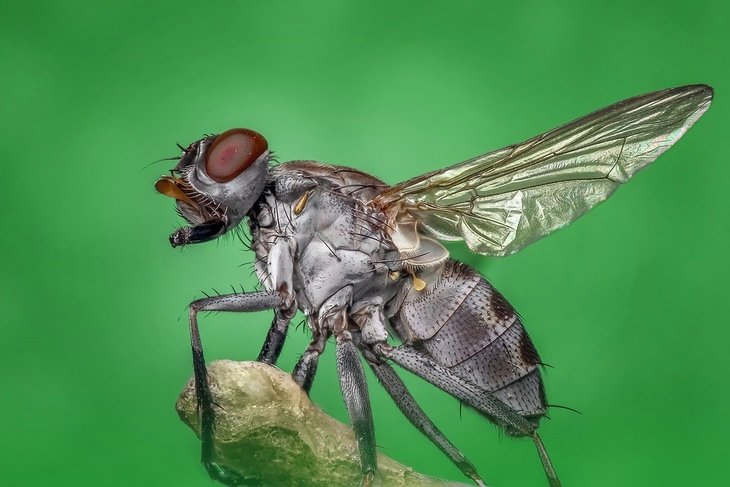green bottles flies: (134, 90, 726, 487)
